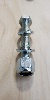FinishedAssembly: (16, 15, 38, 80)
